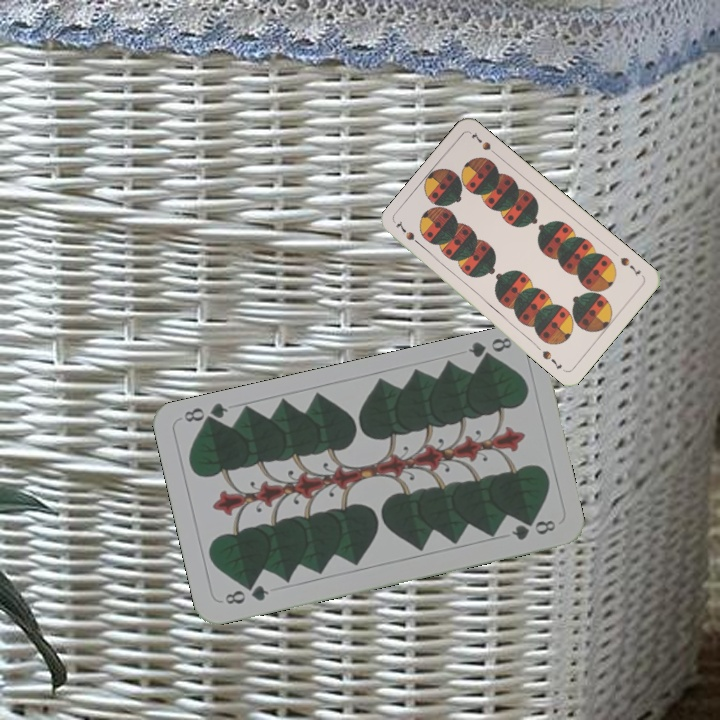G8: (464, 333, 515, 366), (220, 580, 272, 607)
S7: (391, 219, 426, 250), (616, 253, 643, 279)
